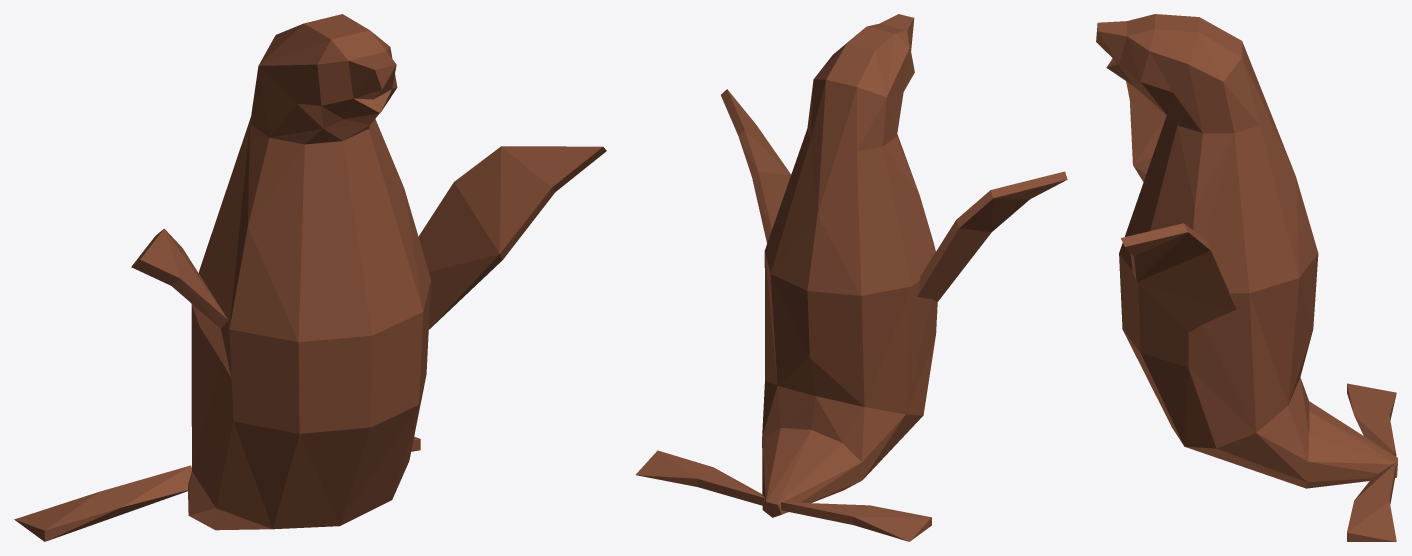
File: Seal_02.FBX
3 views of the same model, side by side, from view 1: azimuth 30°, elevation 25°; view 2: azimuth 150°, elevation 25°; view 3: azimuth 270°, elevation 25° (orthographic). The views are drawn at different scales.
Visible parts, largest first — view 1: Seal_005; view 2: Seal_005; view 3: Seal_005.
Boxes of the visible parts, left/top/right/bottom form: Seal_005: left=14, top=14, right=606, bottom=541; Seal_005: left=636, top=14, right=1067, bottom=541; Seal_005: left=1096, top=14, right=1397, bottom=541.
Bounding box in the file's own units: 43.93 × 49.47 × 29.65.
